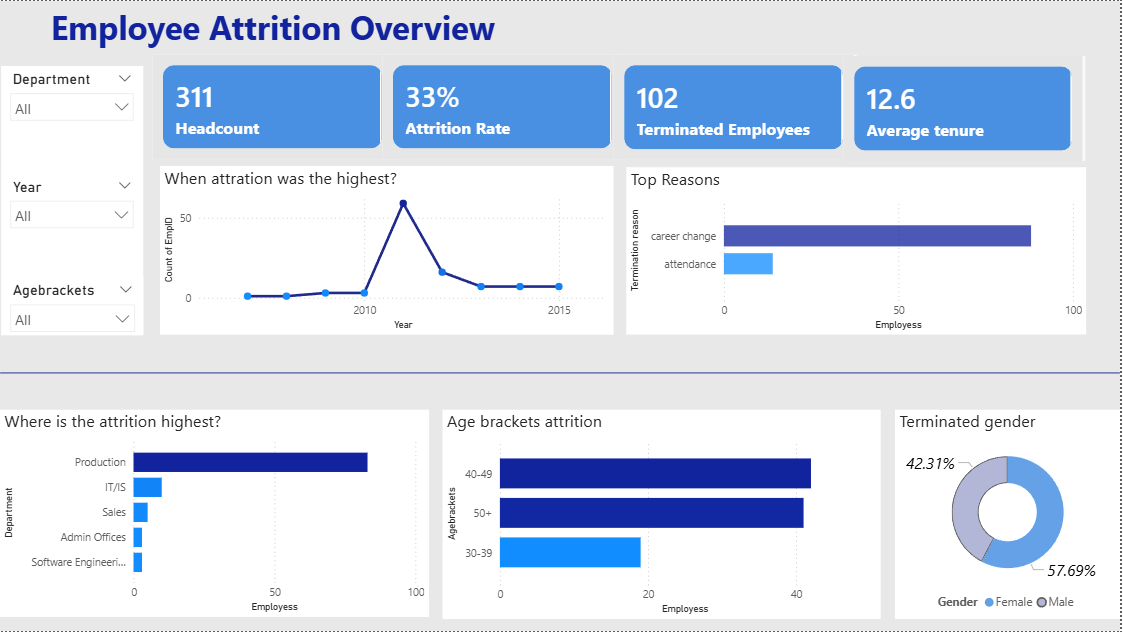

The dashboard page shown, as its layout file describes it:
{"tool":"powerbi","page":{"name":"Terminated colored","canvas":[1280,720],"ordinal":1},"visuals":[{"type":"barChart","title":"Where is the attrition highest?","fields":{"Category":["departm_dim.Department"],"Y":["CountNonNull(Employee_dim.EmpID)"]},"box":[0,466.7,490,236.7],"z":0},{"type":"cardVisual","fields":{"Data":["Employee_dim.Headcount"]},"box":[174.3,61.4,277.2,119.3],"z":1000},{"type":"barChart","title":"Top Reasons","fields":{"Category":["Employment_status_dim.TermReason"],"Y":["CountNonNull(employee_fact.EmpID)"]},"box":[715.7,190,525.7,191.4],"z":2000},{"type":"cardVisual","fields":{"Data":["Employee_dim.Attrition Rate"]},"box":[437.5,61.6,277.1,119.4],"z":3000},{"type":"lineChart","title":"When attration was the highest?","fields":{"Category":["dim_date.Year"],"Y":["CountNonNull(Employee_dim.EmpID)"]},"box":[182.9,188.6,518.6,192.9],"z":4000},{"type":"donutChart","title":"Terminated gender","fields":{"Category":["Employee_dim.Sex"],"Y":["CountNonNull(Employee_dim.EmpID)"]},"box":[1022.3,467.3,257.9,239],"z":5000},{"type":"textbox","box":[52.9,0,597.1,68.6],"z":6000},{"type":"slicer","fields":{"Values":["departm_dim.Department"]},"box":[1.2,73.8,161.4,99.5],"z":7000,"group":"g1"},{"type":"clusteredBarChart","title":"Age brackets attrition","fields":{"Category":["Employee_dim.Agebrackets"],"Y":["CountNonNull(employee_fact.EmpID)"]},"box":[505.1,467.3,501,239],"z":7000},{"type":"cardVisual","fields":{"Data":["Employee_dim.Terminated Employees"]},"box":[701.2,61.2,277.5,120],"z":8000},{"type":"slicer","fields":{"Values":["dim_date.Year"]},"box":[1.2,197.3,161.2,115.8],"z":8000,"group":"g1"},{"type":"cardVisual","fields":{"Data":["Employee_dim.Avg Tenure Active"]},"box":[963.8,62.5,276.2,120],"z":9000},{"type":"slicer","fields":{"Values":["Employee_dim.Agebrackets"]},"box":[1,315.4,162.5,66.2],"z":9000,"group":"g1"},{"type":"group","id":"g1","title":"Group 2","box":[1,73.8,162.5,307.8],"z":10000},{"type":"shape","box":[0,395.7,1280,58.6],"z":11000}]}

Visuals, with their boxes in screenshot pixels (x1, y1, x2, y2), scaled from the page's 1280x720 canvas onto the 1123x632 screenshot:
"Where is the attrition highest?" barChart: bbox=[0, 410, 430, 617]
cardVisual - Employee_dim.Headcount: bbox=[153, 54, 396, 159]
"Top Reasons" barChart: bbox=[628, 167, 1089, 335]
cardVisual - Employee_dim.Attrition Rate: bbox=[384, 54, 627, 159]
"When attration was the highest?" lineChart: bbox=[160, 166, 615, 335]
"Terminated gender" donutChart: bbox=[897, 410, 1122, 620]
textbox: bbox=[46, 0, 570, 60]
slicer - departm_dim.Department: bbox=[1, 65, 143, 152]
"Age brackets attrition" clusteredBarChart: bbox=[443, 410, 883, 620]
cardVisual - Employee_dim.Terminated Employees: bbox=[615, 54, 859, 159]
slicer - dim_date.Year: bbox=[1, 173, 142, 275]
cardVisual - Employee_dim.Avg Tenure Active: bbox=[846, 55, 1088, 160]
slicer - Employee_dim.Agebrackets: bbox=[1, 277, 143, 335]
"Group 2" group: bbox=[1, 65, 143, 335]
shape: bbox=[0, 347, 1122, 399]
